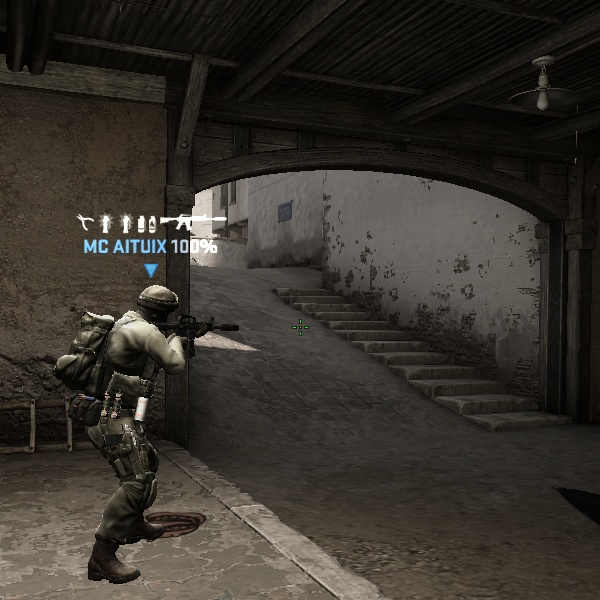ct_body: (64, 282, 192, 575)
ct_head: (133, 285, 183, 336)
